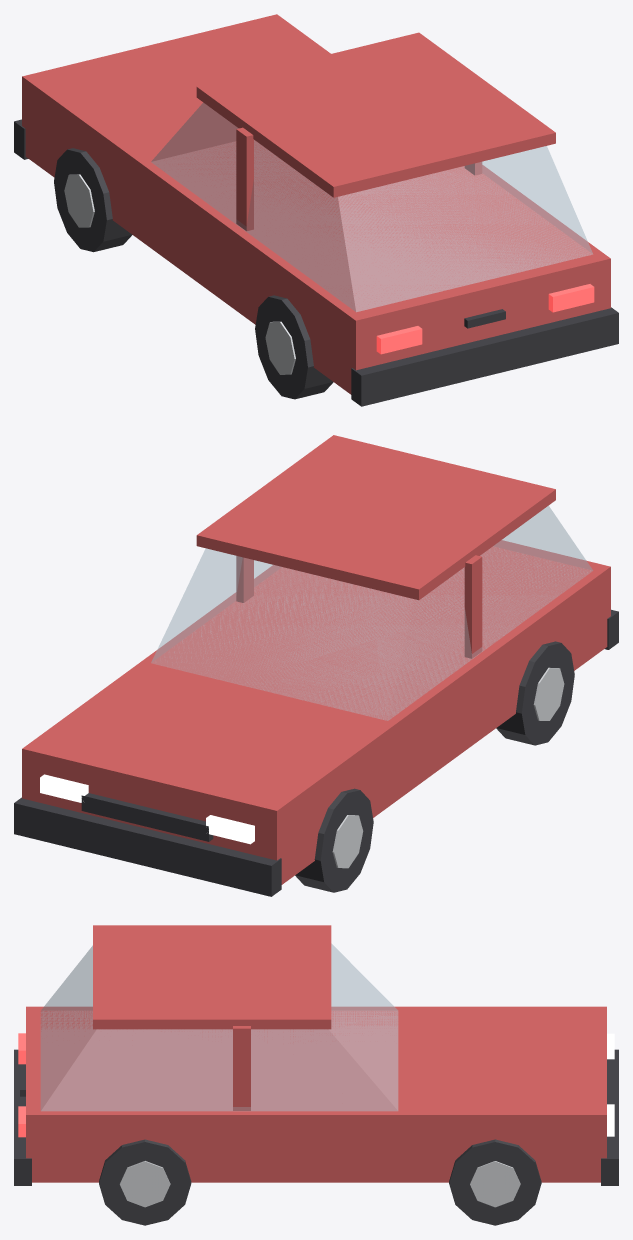
File: car_hatchback_red.glb
3 views of the same model, one above another, from view 1: azimuth 30°, elevation 25°; view 2: azimuth 150°, elevation 25°; view 3: azimuth 270°, elevation 25° (orthographic). The views are drawn at different scales.
Parts seen in each view (by area): view 1: body, wheel_fl, wheel_rl; view 2: body, wheel_fl, wheel_rl; view 3: body, wheel_fr, wheel_rr.
Boxes of the visible parts, x1,y1,x2,y2 form: body: (14, 14, 618, 406); wheel_fl: (54, 148, 132, 252); wheel_rl: (255, 295, 333, 399); body: (14, 435, 618, 896); wheel_fl: (295, 788, 373, 892); wheel_rl: (496, 641, 574, 745); body: (14, 925, 618, 1185); wheel_fr: (449, 1139, 541, 1225); wheel_rr: (99, 1139, 191, 1225).
Bounding box in the file's own units: 1.82 × 1.46 × 4.06.
